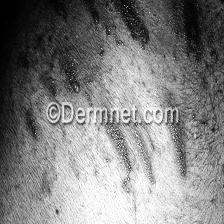Benign Marking or Mole: (94, 136, 190, 197), (70, 0, 156, 49), (41, 63, 113, 103), (174, 0, 215, 62), (31, 159, 70, 194), (16, 105, 41, 141)
